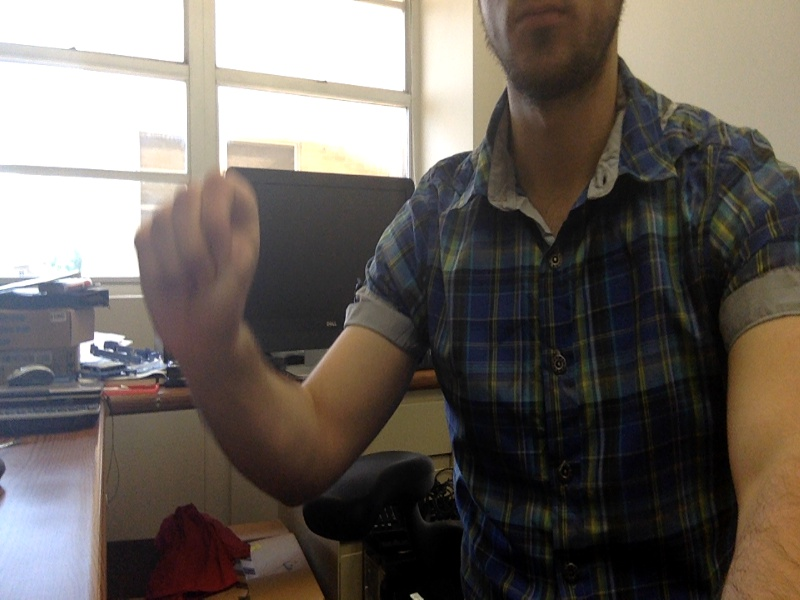0-hand: (132, 179, 261, 344)
